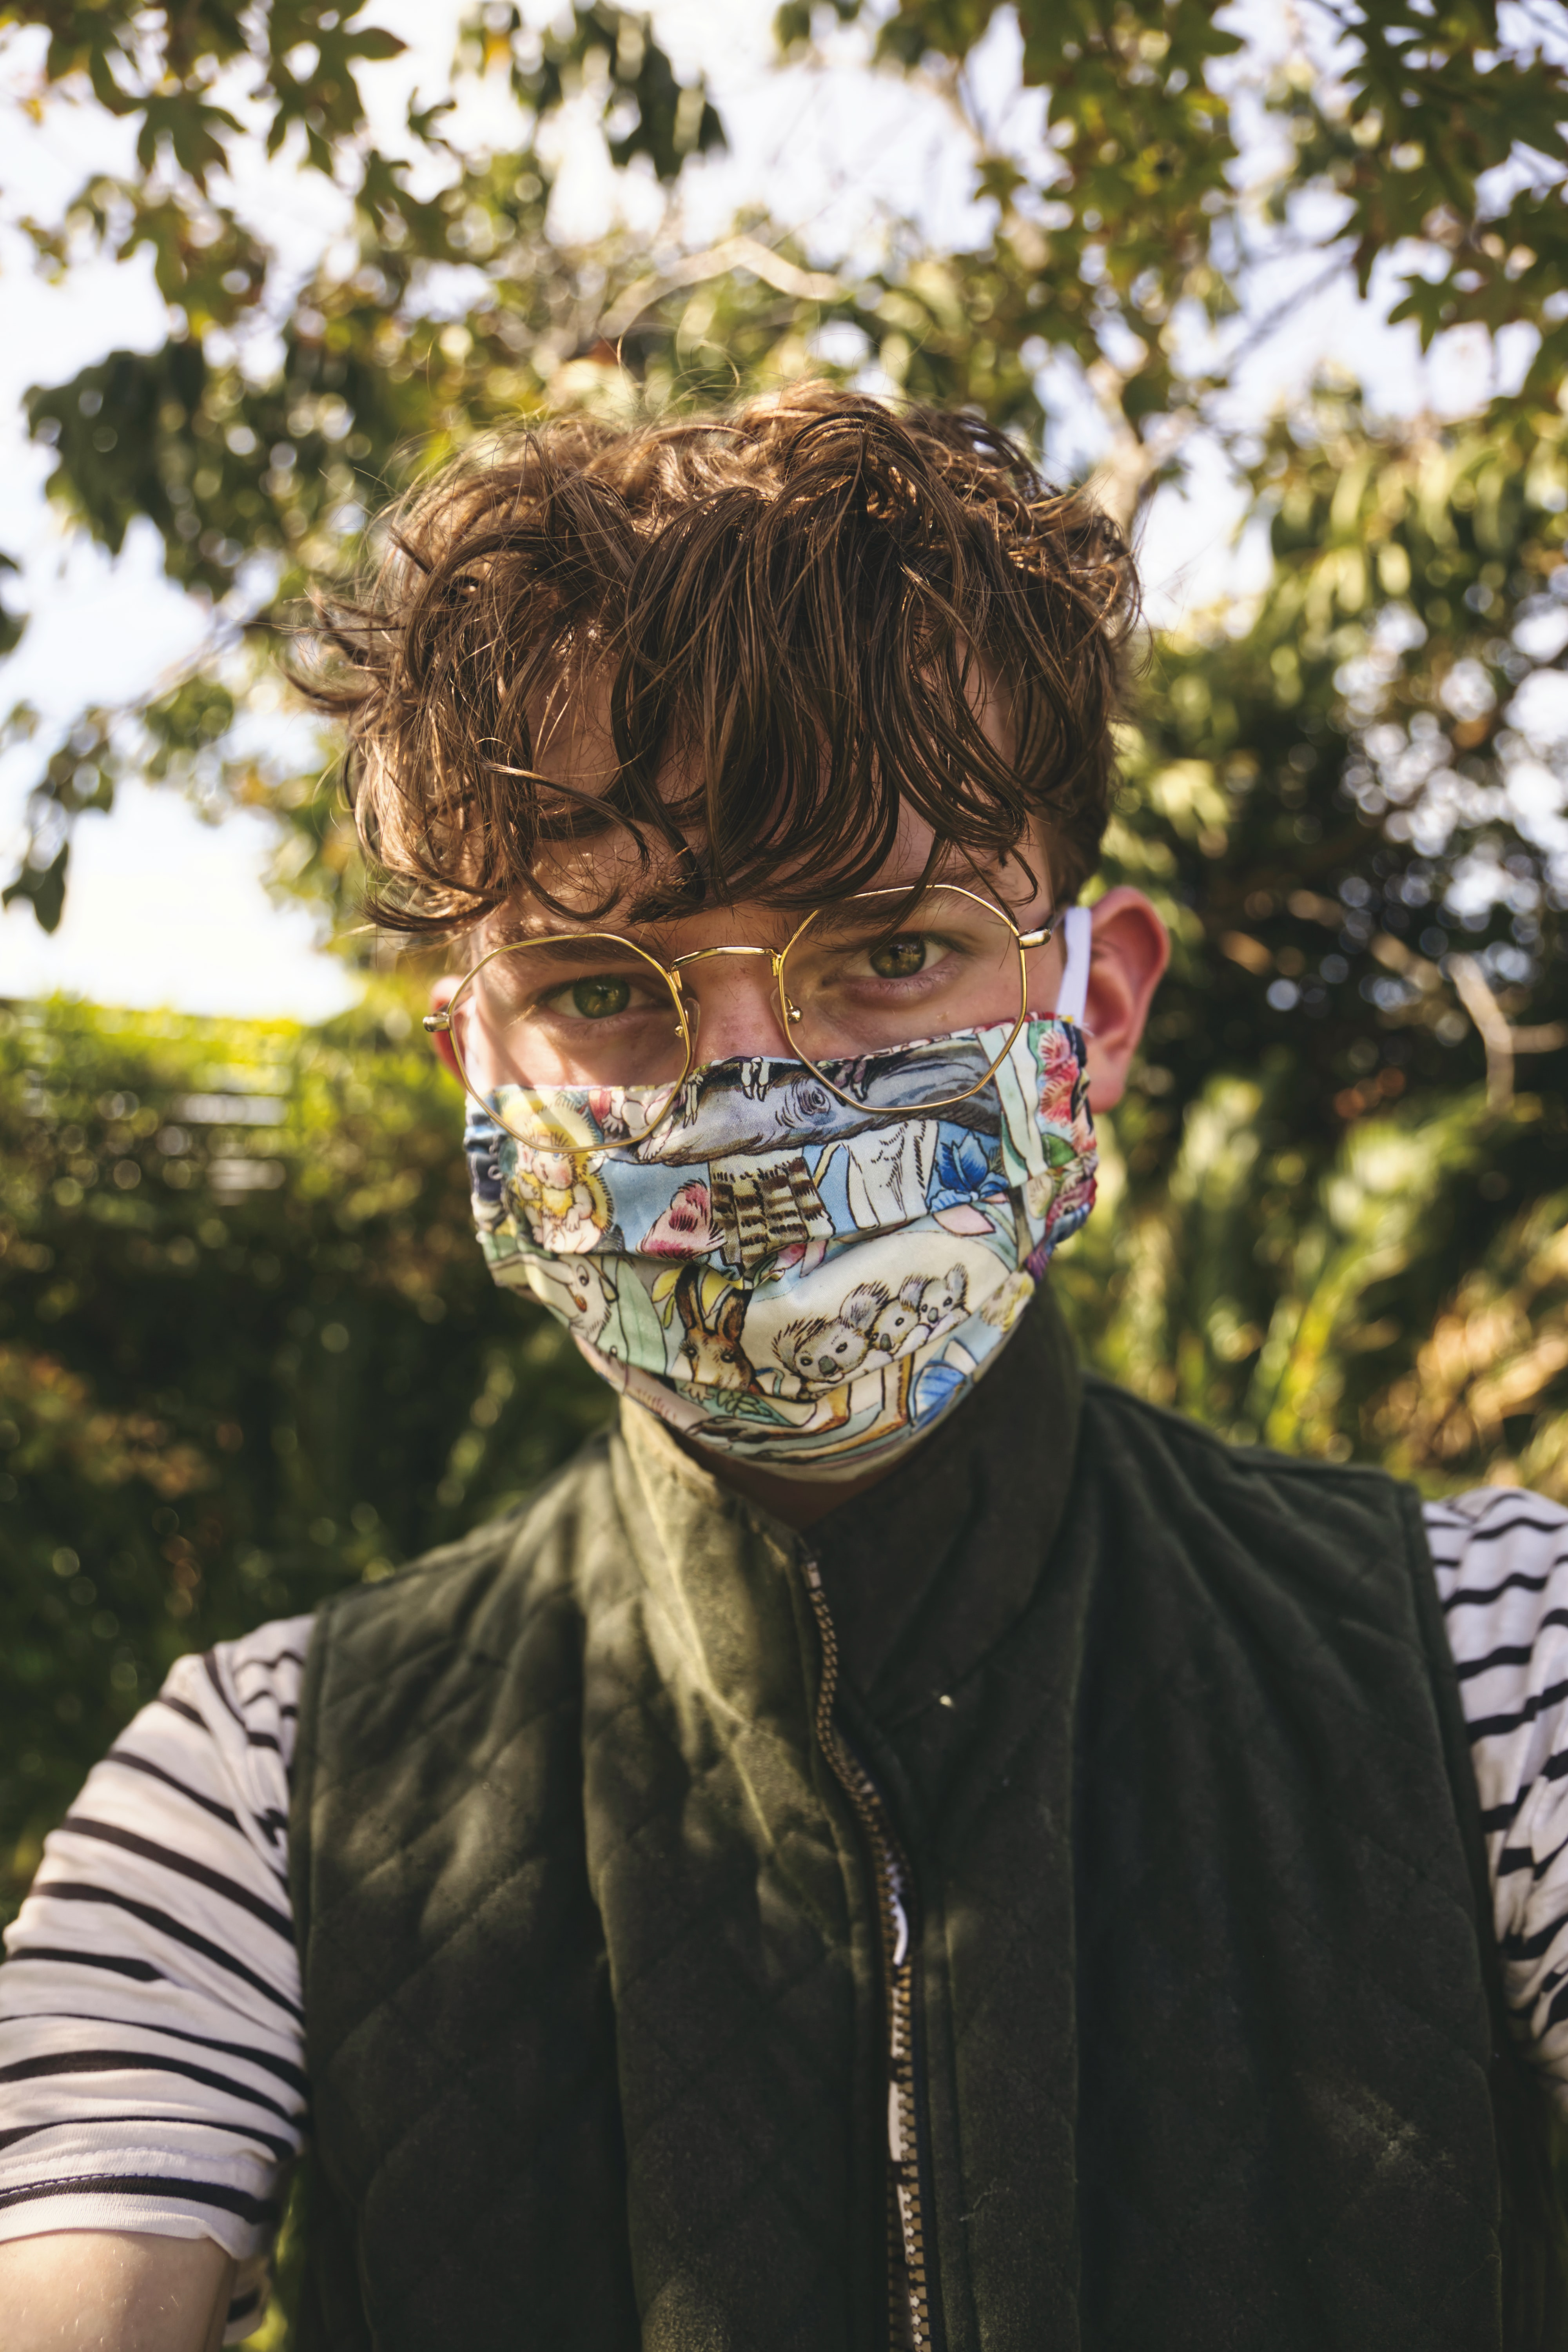mask: (446, 1041, 1134, 1494)
person: (39, 385, 1510, 2319)
